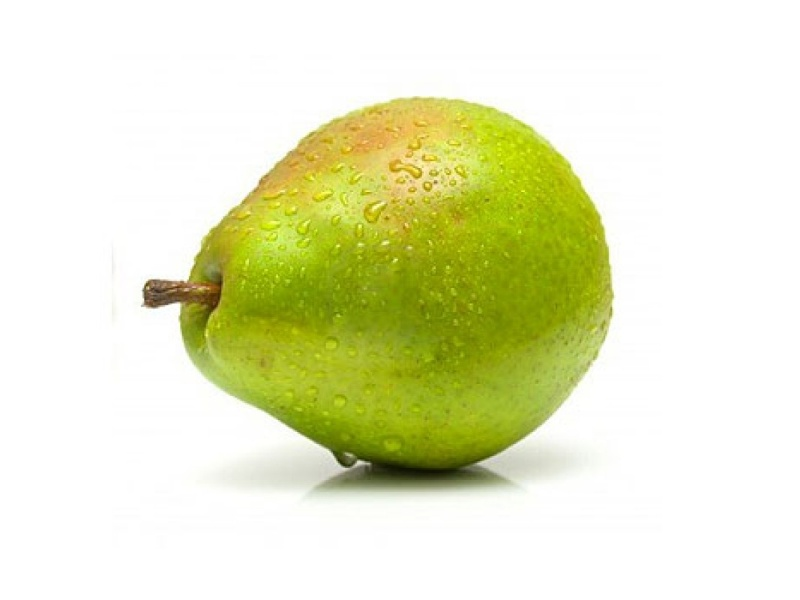Pera: (143, 97, 614, 473)
